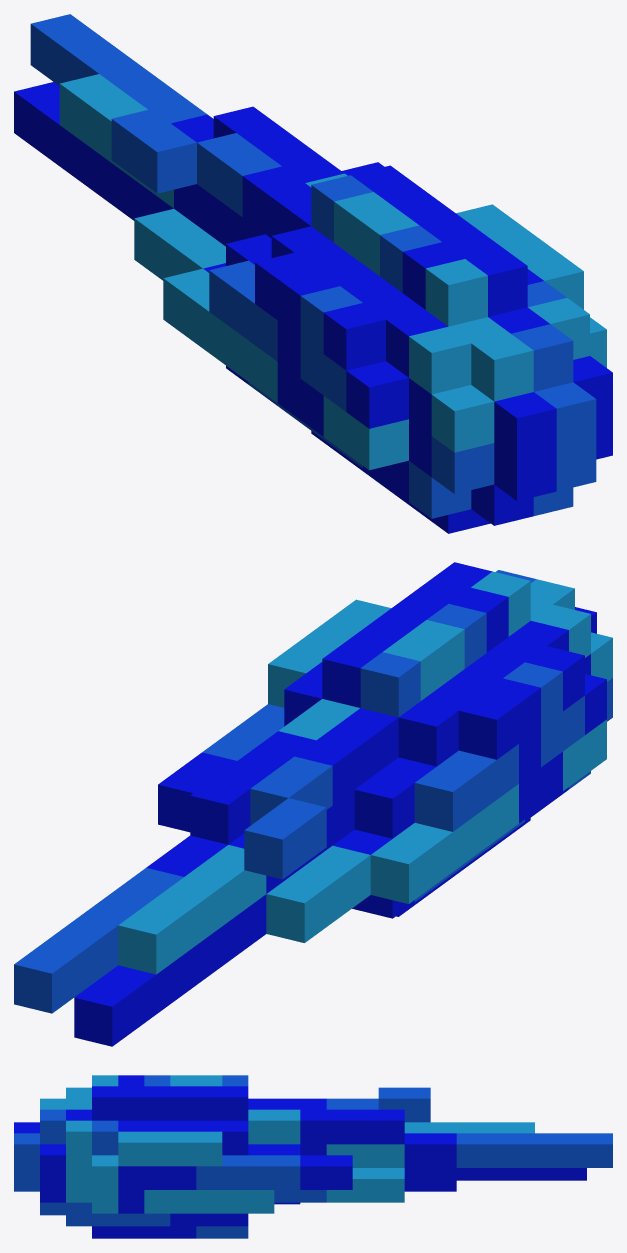
File: Poison(blue).obj
3 renders of one model, top to bottom at view 1: azimuth 30°, elevation 25°; view 2: azimuth 150°, elevation 25°; view 3: azimuth 270°, elevation 25°, orthographic. The views are drawn at different scales.
Size of the model in its own units: 0.6 by 0.6 by 2.3.
Materials: 1 (1 with a texture image).
